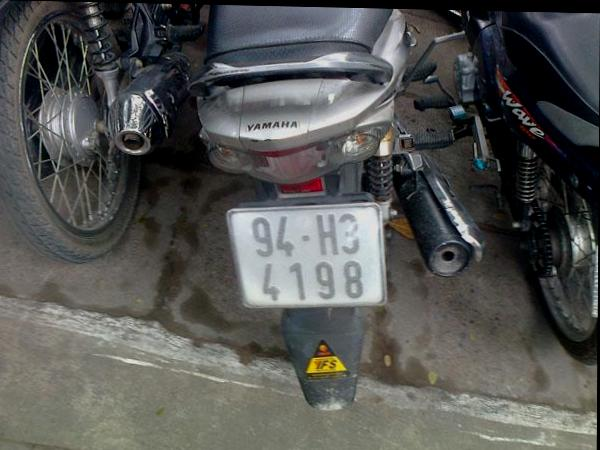License_Plate: (221, 201, 398, 321)
